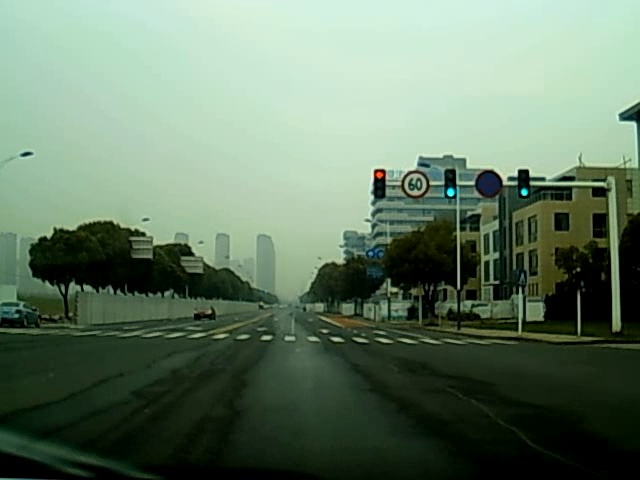Traffic_Light_go: (518, 170, 531, 202), (446, 171, 456, 201)
Traffic_Light_stop: (375, 168, 387, 196)
